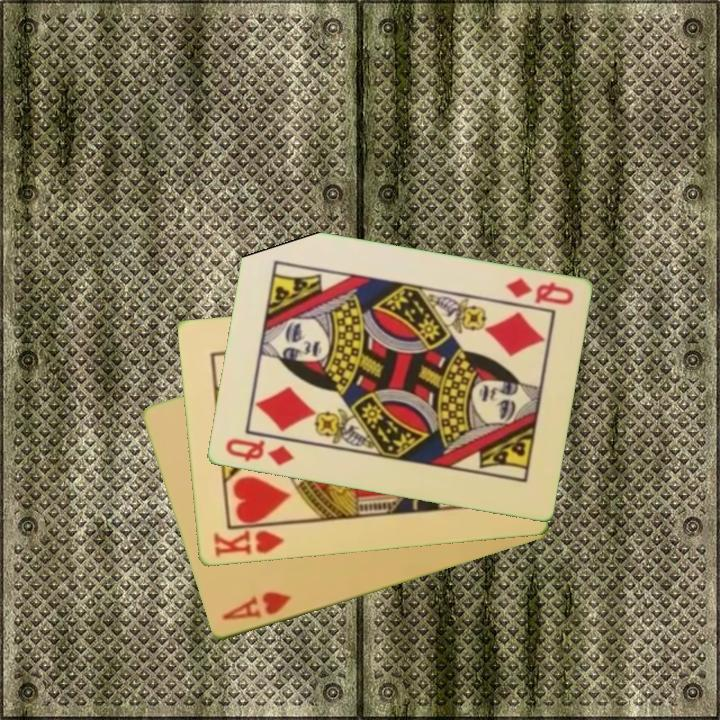Ah: (218, 588, 294, 624)
Kh: (210, 521, 289, 561)
Qd: (501, 274, 576, 309), (221, 435, 296, 469)
